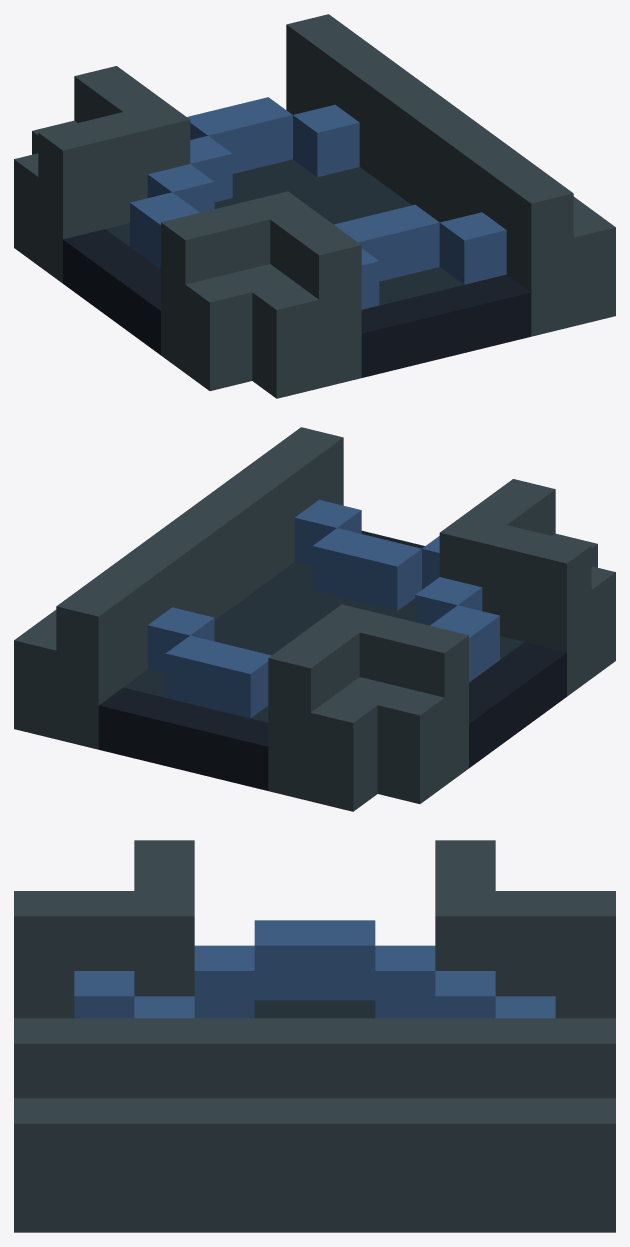
File: ConveyorStraightLeft.obj
3 renders of one model, top to bottom at view 1: azimuth 30°, elevation 25°; view 2: azimuth 150°, elevation 25°; view 3: azimuth 270°, elevation 25°, orthographic. The views are drawn at different scales.
Size of the model in its own units: 0.9 by 0.3 by 1.
Materials: 1 (1 with a texture image).
